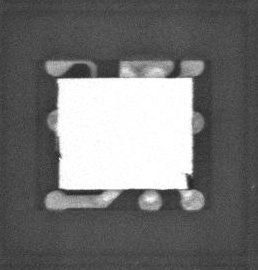DIE_BROKEN: (183, 172, 193, 189), (57, 137, 63, 163)
